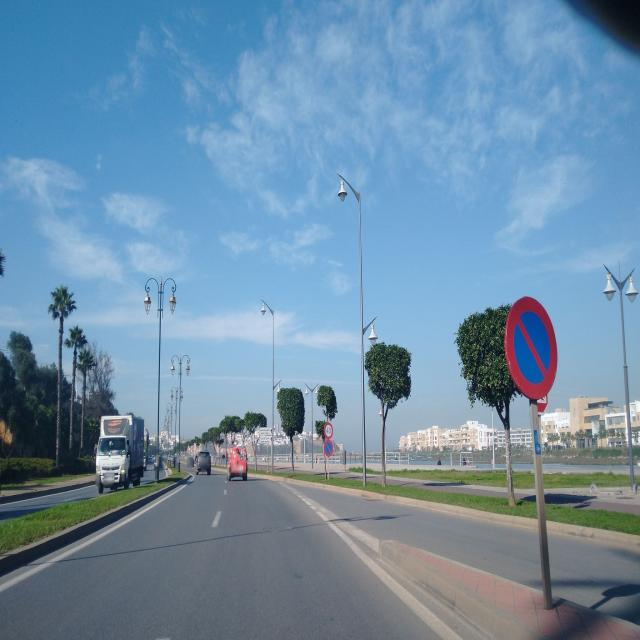forb_stopping: (505, 280, 564, 408), (324, 439, 333, 458)
